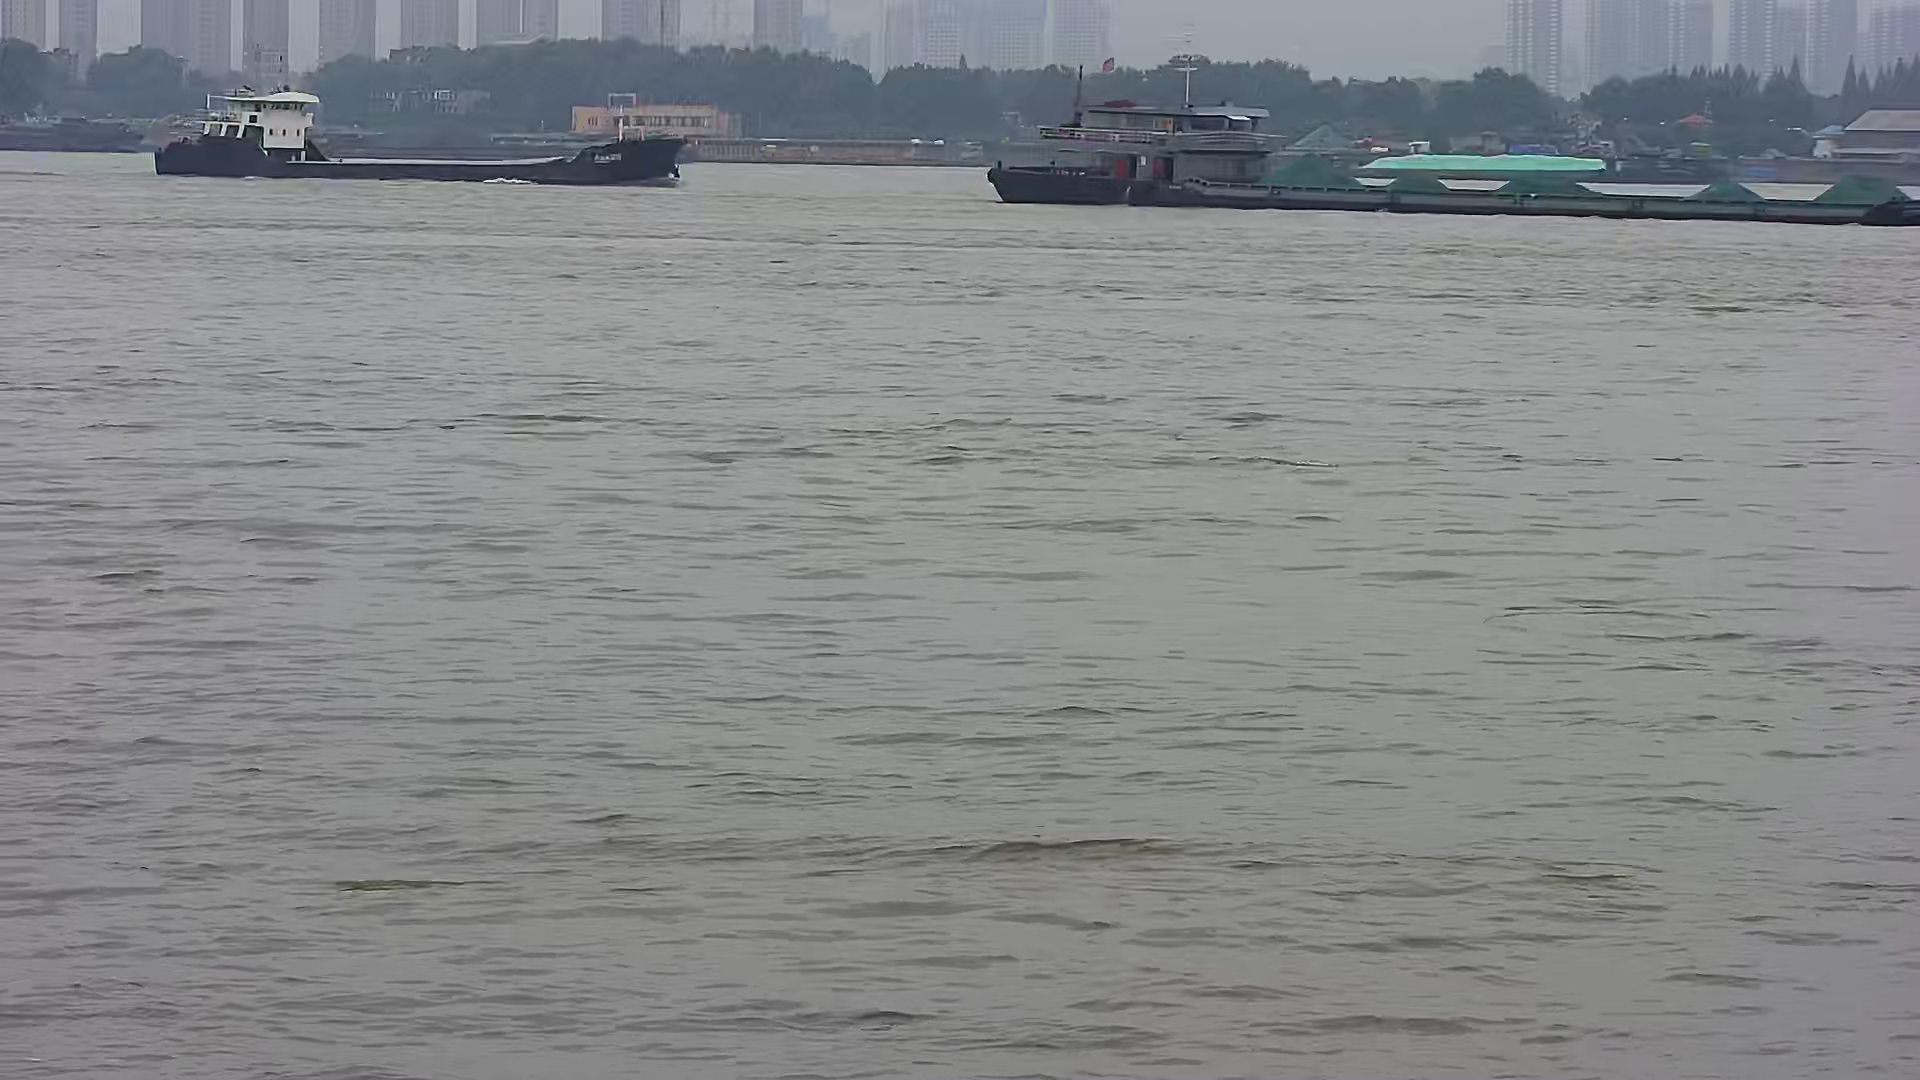ship: (980, 32, 1920, 229), (136, 69, 695, 193)
